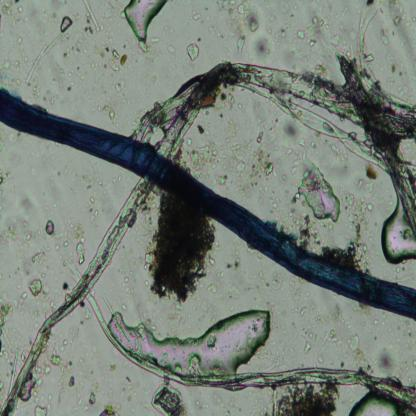Air bubble: (104, 302, 272, 373), (377, 201, 416, 265), (300, 168, 340, 223), (124, 0, 168, 41), (347, 391, 400, 415), (59, 14, 74, 33), (43, 218, 55, 237)
Background material: (152, 192, 216, 299), (183, 132, 276, 186), (0, 289, 32, 395), (217, 0, 270, 60), (341, 163, 377, 238), (271, 21, 345, 56), (276, 118, 312, 178), (322, 237, 372, 275), (24, 32, 61, 83), (211, 82, 250, 130), (247, 184, 295, 222), (0, 216, 35, 256), (215, 254, 246, 296), (292, 211, 322, 250), (96, 40, 127, 72), (0, 53, 22, 90), (63, 36, 92, 61), (80, 0, 100, 36), (44, 349, 69, 377), (71, 220, 85, 269), (376, 343, 396, 376), (348, 331, 366, 367), (320, 322, 341, 352), (0, 0, 22, 28), (139, 36, 160, 64), (29, 274, 50, 300), (22, 374, 39, 403), (120, 373, 135, 401), (86, 380, 101, 408), (92, 104, 115, 121), (268, 271, 286, 292), (391, 10, 406, 30), (22, 196, 35, 219), (300, 334, 314, 354), (99, 401, 118, 415), (125, 271, 135, 296), (115, 79, 129, 95), (315, 354, 326, 374), (188, 41, 199, 61), (30, 404, 48, 415), (43, 90, 55, 105), (67, 374, 78, 389), (380, 31, 390, 47), (166, 41, 176, 56), (192, 10, 201, 22), (16, 35, 23, 46)
Cellulose filter fibre: (84, 292, 416, 408), (0, 182, 152, 415), (131, 61, 416, 175), (332, 56, 416, 229)
Cotton: (0, 86, 416, 320)
